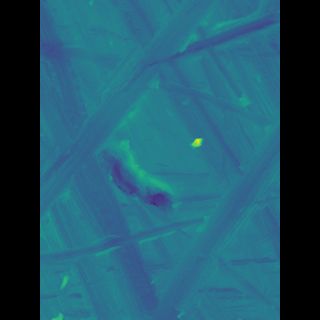Loch: (66, 0, 203, 221), (155, 124, 251, 320), (69, 213, 194, 265)
